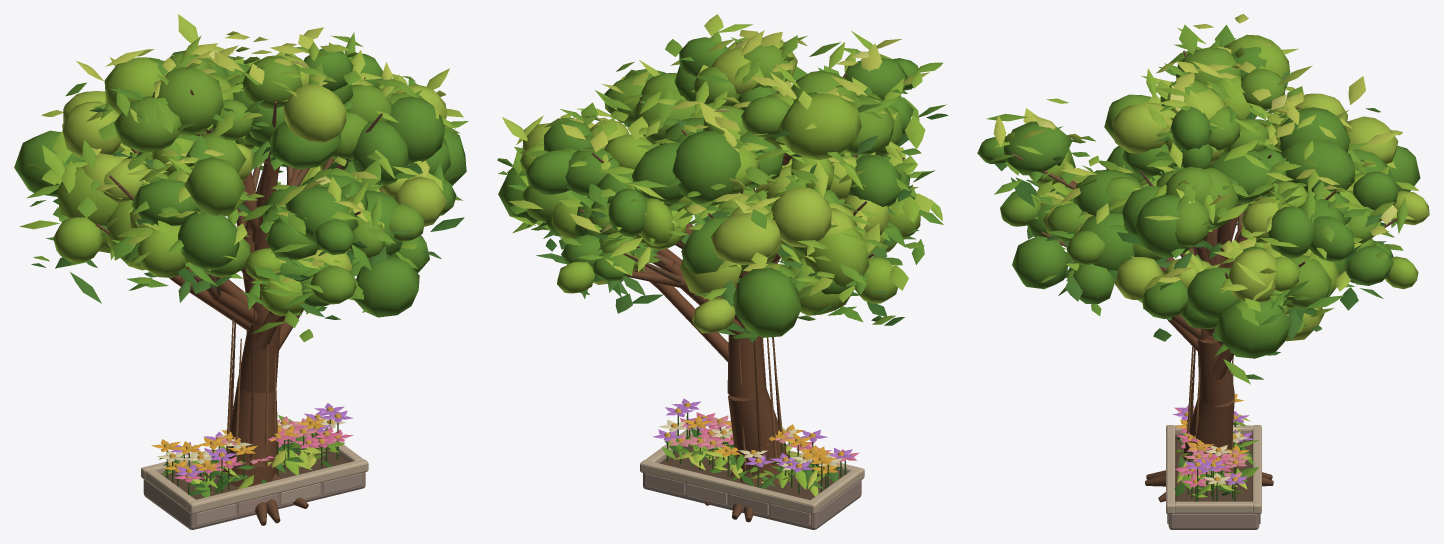
Rendered from festival-garden.glb.
3 views of the same model, side by side, from view 1: azimuth 30°, elevation 25°; view 2: azimuth 150°, elevation 25°; view 3: azimuth 270°, elevation 25° (orthographic). The views are drawn at different scales.
Parts seen in each view (by area): view 1: Shade tree cloth, Shade treeFar cloth, Stone planter and flowers cloth, Stone planter and flowersFar cloth; view 2: Shade tree cloth, Shade treeFar cloth, Stone planter and flowers cloth, Stone planter and flowersFar cloth; view 3: Shade tree cloth, Shade treeFar cloth, Stone planter and flowers cloth, Stone planter and flowersFar cloth.
Boxes of the visible parts, x1,y1,x2,y2 form: Shade tree cloth: (19,14,463,525); Shade treeFar cloth: (14,59,468,523); Stone planter and flowers cloth: (141,411,368,529); Stone planter and flowersFar cloth: (163,403,353,494); Shade tree cloth: (497,14,943,522); Shade treeFar cloth: (498,31,948,519); Stone planter and flowers cloth: (640,417,864,529); Stone planter and flowersFar cloth: (665,398,854,488); Shade tree cloth: (1000,14,1400,502); Shade treeFar cloth: (977,76,1429,486); Stone planter and flowers cloth: (1166,393,1261,529); Stone planter and flowersFar cloth: (1176,405,1234,501).
Bounding box in the file's own units: 5.89 × 6.24 × 5.84.
